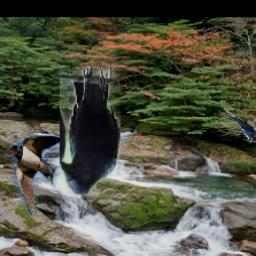Crow: (59, 68, 119, 196)
Swallow: (10, 135, 82, 216), (224, 108, 256, 143)
